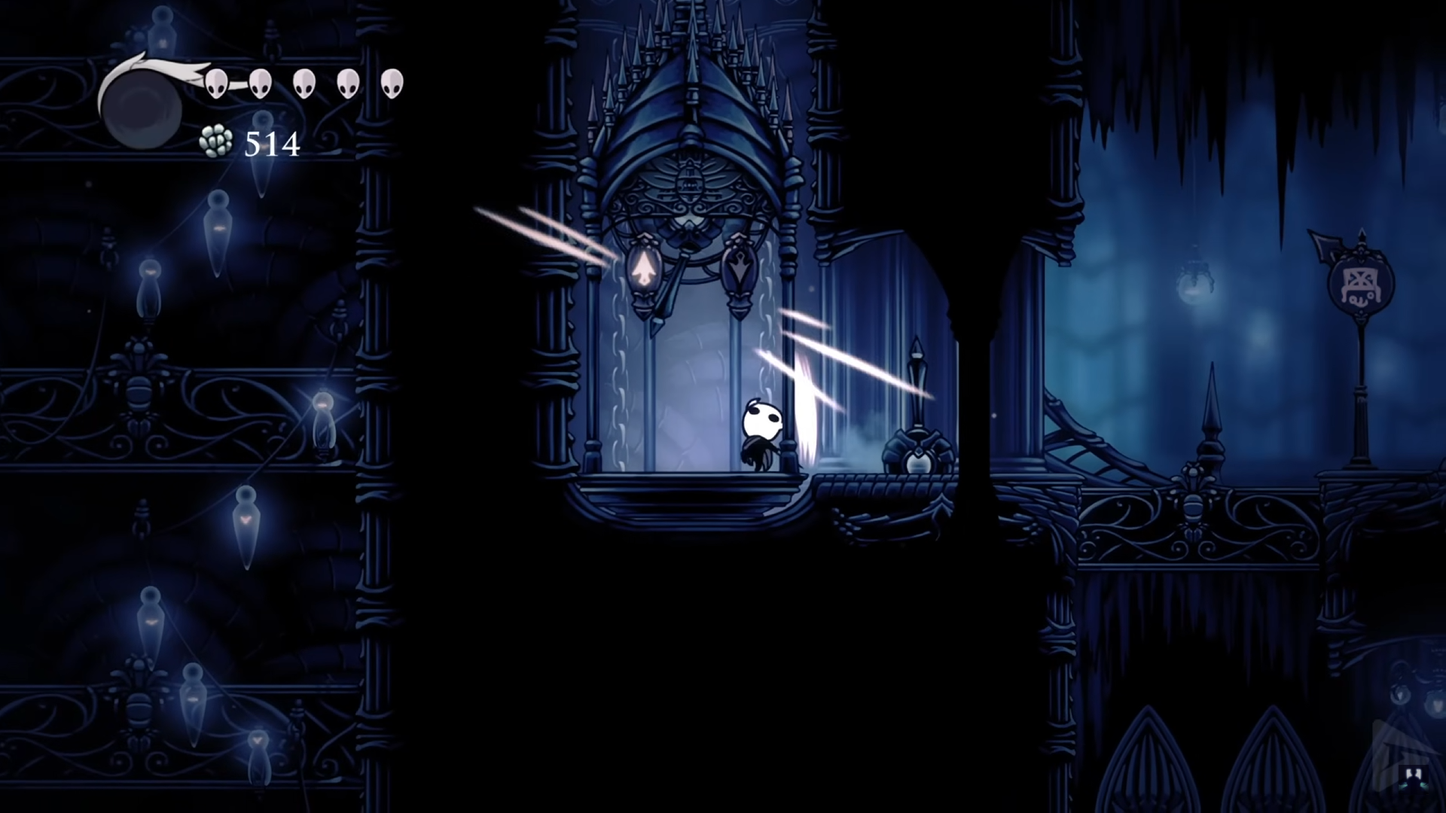HK: (736, 391, 793, 471)
